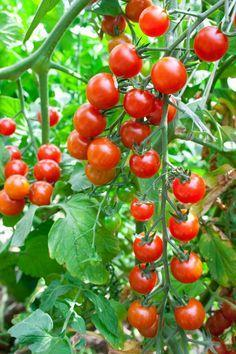healthy-tomato: (168, 171, 209, 222), (110, 40, 153, 80), (128, 295, 164, 341), (69, 104, 108, 143), (151, 57, 188, 97), (129, 262, 166, 300), (124, 90, 163, 126), (171, 247, 206, 286), (194, 27, 230, 64), (87, 74, 121, 113), (169, 205, 200, 247), (89, 138, 122, 174), (139, 6, 172, 41), (121, 121, 159, 151), (149, 94, 181, 129), (134, 231, 165, 266), (129, 150, 162, 182), (175, 299, 206, 333), (101, 6, 130, 41), (5, 175, 32, 204), (34, 161, 63, 186), (30, 181, 56, 208), (131, 193, 155, 222), (67, 137, 90, 164), (126, 1, 155, 21), (38, 145, 63, 163), (6, 161, 31, 179)
